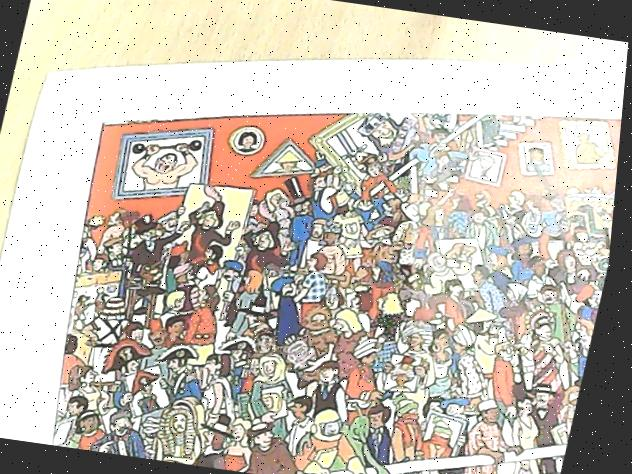waldo: (256, 328, 285, 354)
